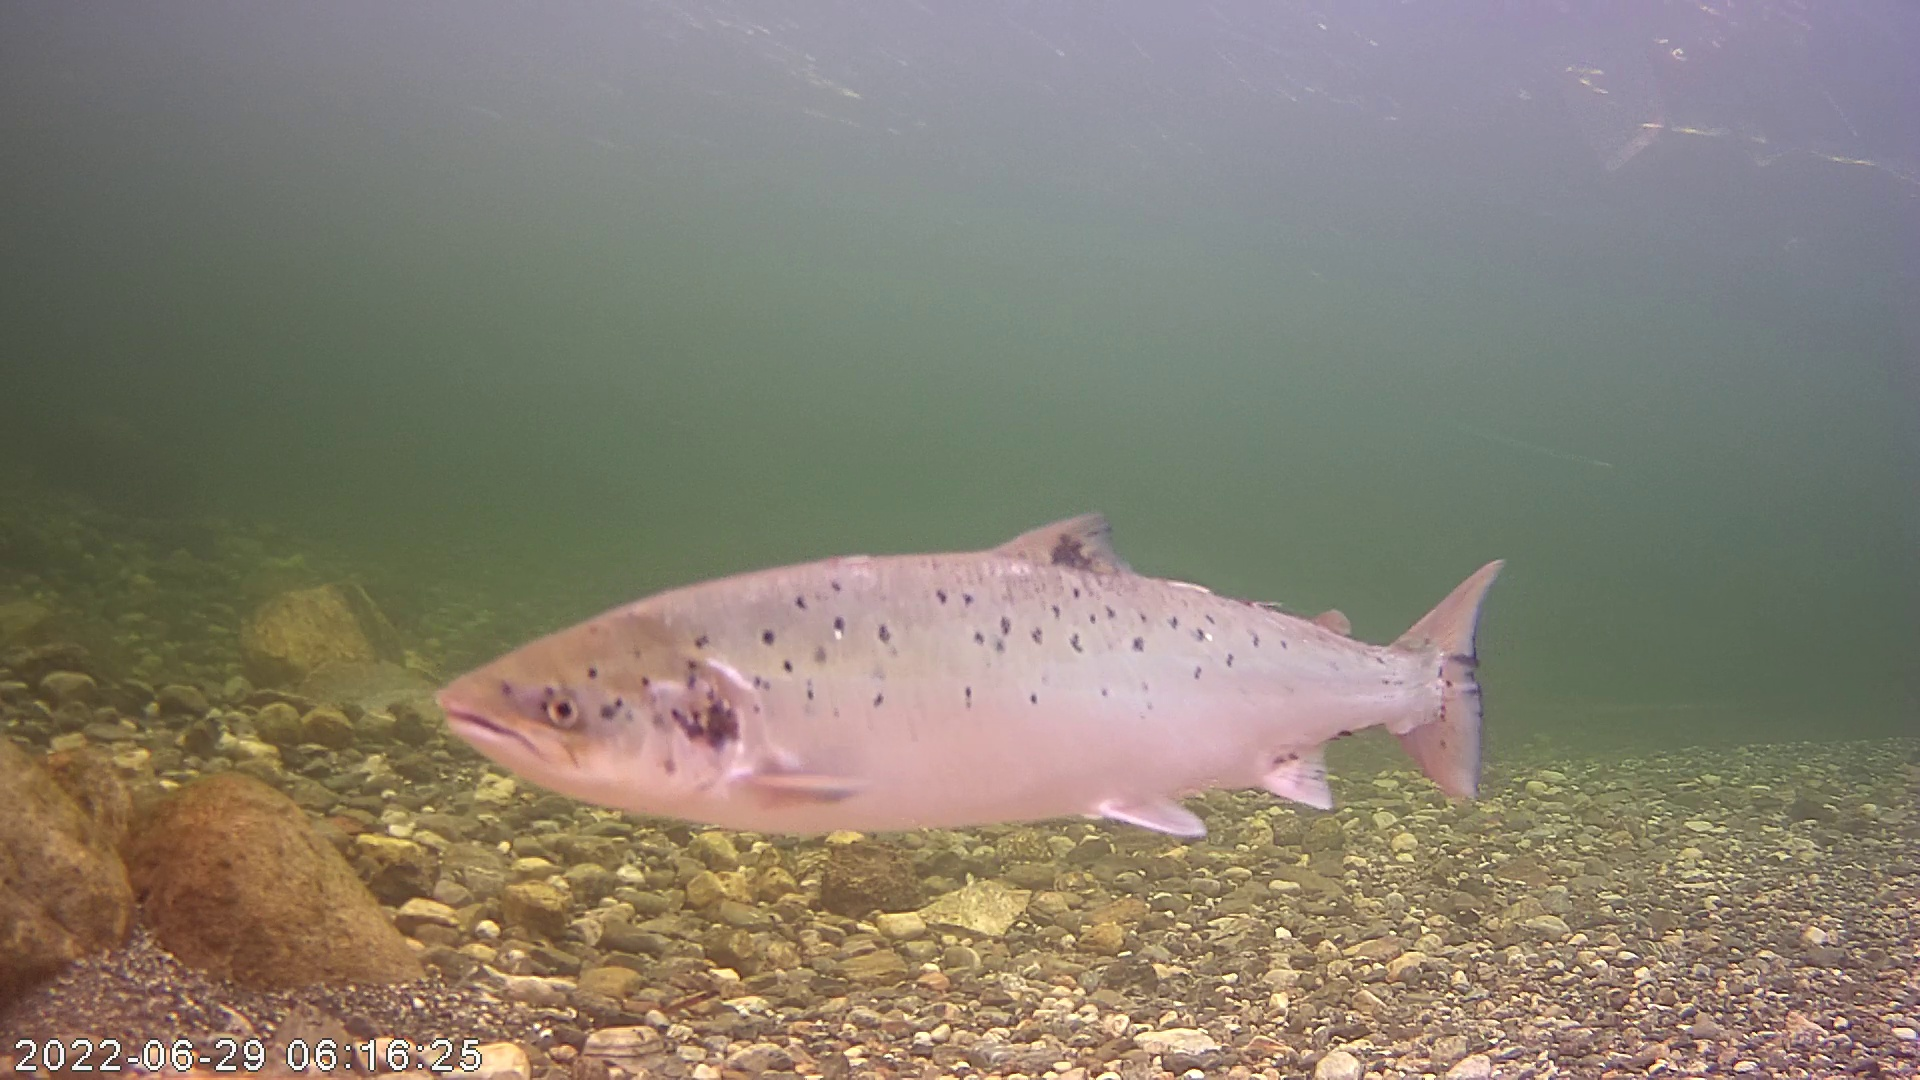salmon: (465, 404, 1513, 849)
